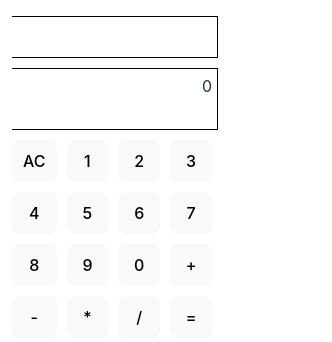
Scenario: Calculator component › is ac button clear the displays
This screenshot has width=332, height=342.
Click the button with test id "button-5" at (87, 213), box [66,192,108,234]
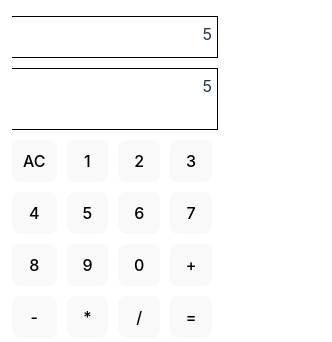
Click the button with test id "button-6" at (139, 213), box [118,192,160,234]
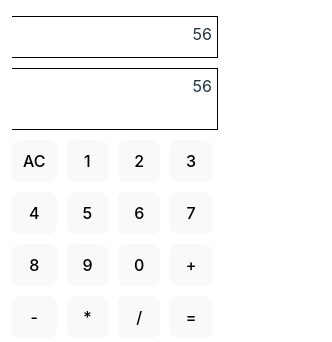
Click the button "AC" at (34, 161), box [12,140,56,182]
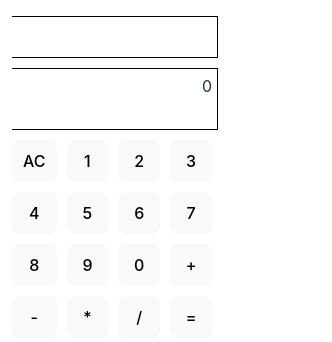
Result: the text with test id "display" reads "0" at [202,76,212,96]
